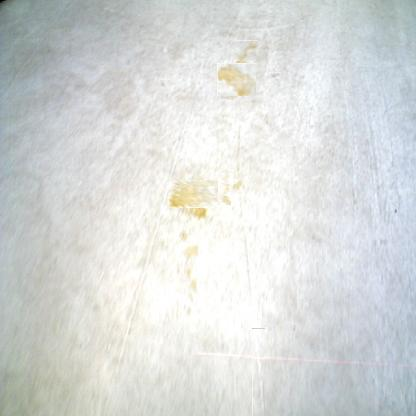liquid: (181, 228, 199, 314), (174, 174, 212, 214), (219, 61, 254, 98), (252, 328, 265, 416), (212, 175, 236, 199), (236, 40, 258, 61)
mark: (271, 71, 280, 81), (160, 79, 166, 88), (392, 206, 398, 214)
